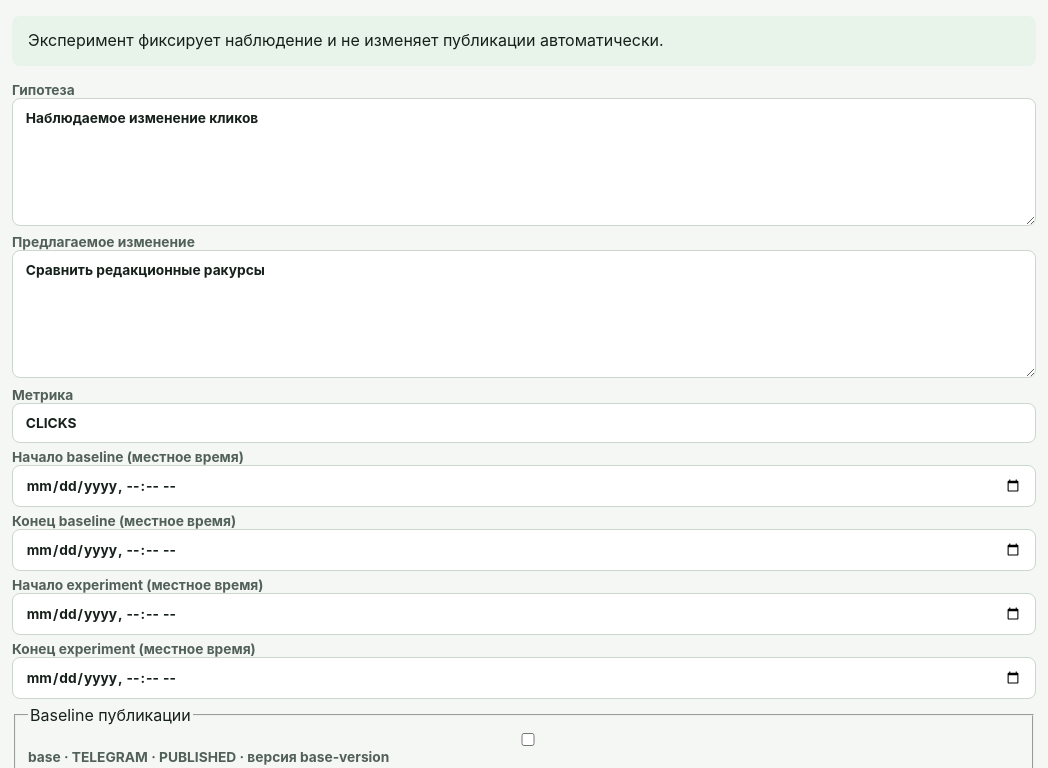
Scenario: human selects dates and disjoint groups
Step 1. Type "2026-10-01T00:00" into the field labelled "Начало baseline (местное время)" → (524, 486), box [12,465,1036,507]
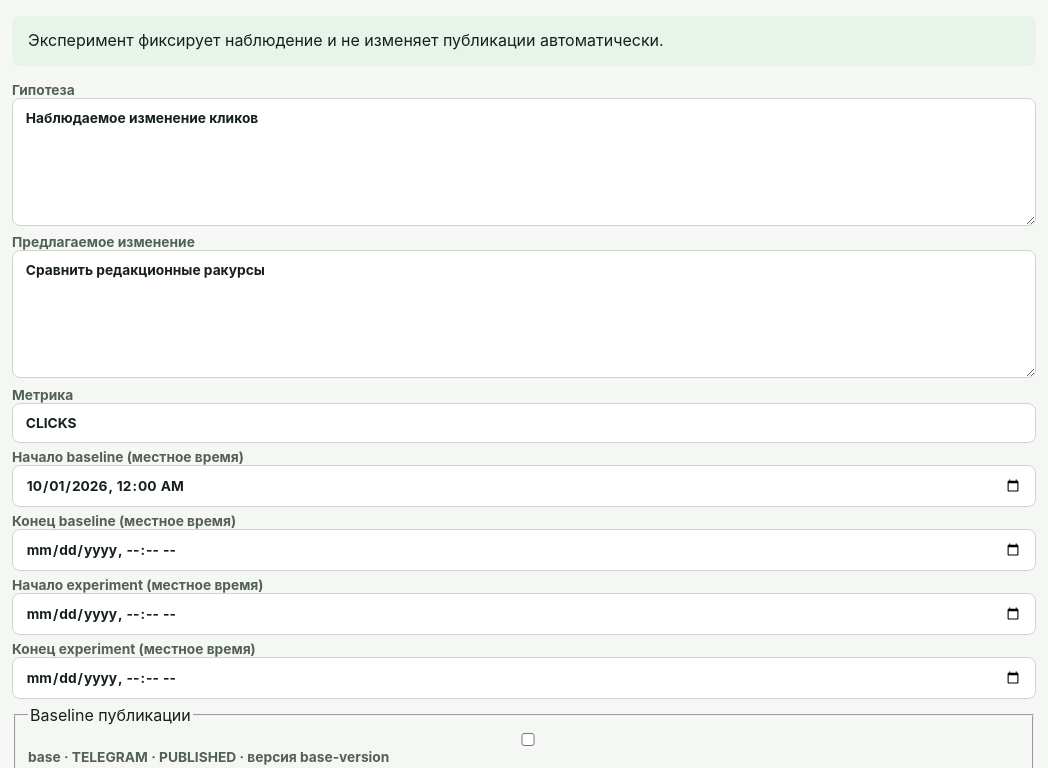
Step 2. Type "2026-10-03T00:00" into the field labelled "Конец baseline (местное время)" → (524, 550), box [12,529,1036,571]
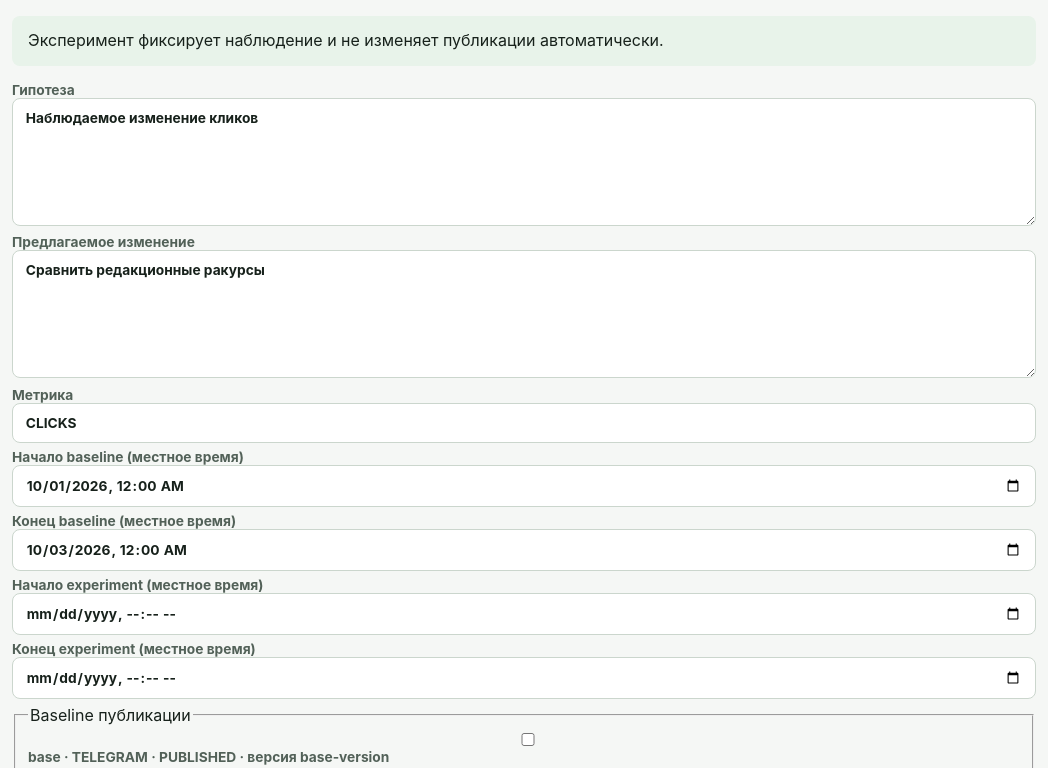
Step 3. Type "2026-10-03T00:00" into the field labelled "Начало experiment (местное время)" → (524, 614), box [12,593,1036,635]
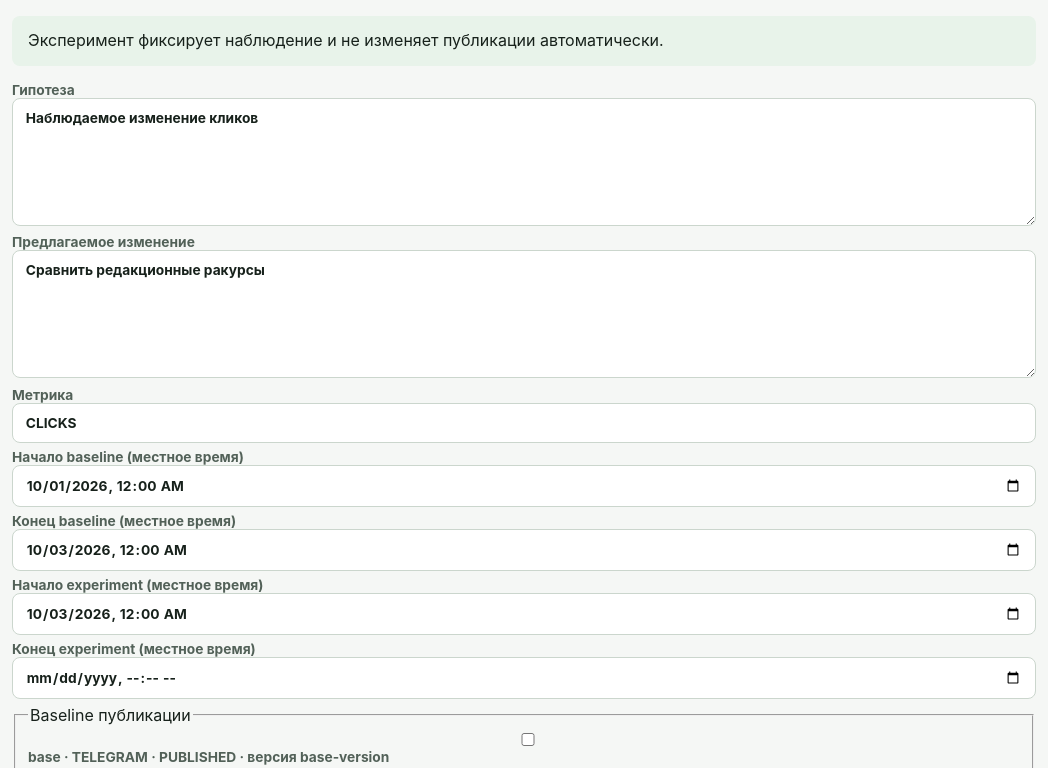
Step 4. Type "2026-10-08T00:00" into the field labelled "Конец experiment (местное время)" → (524, 678), box [12,657,1036,699]
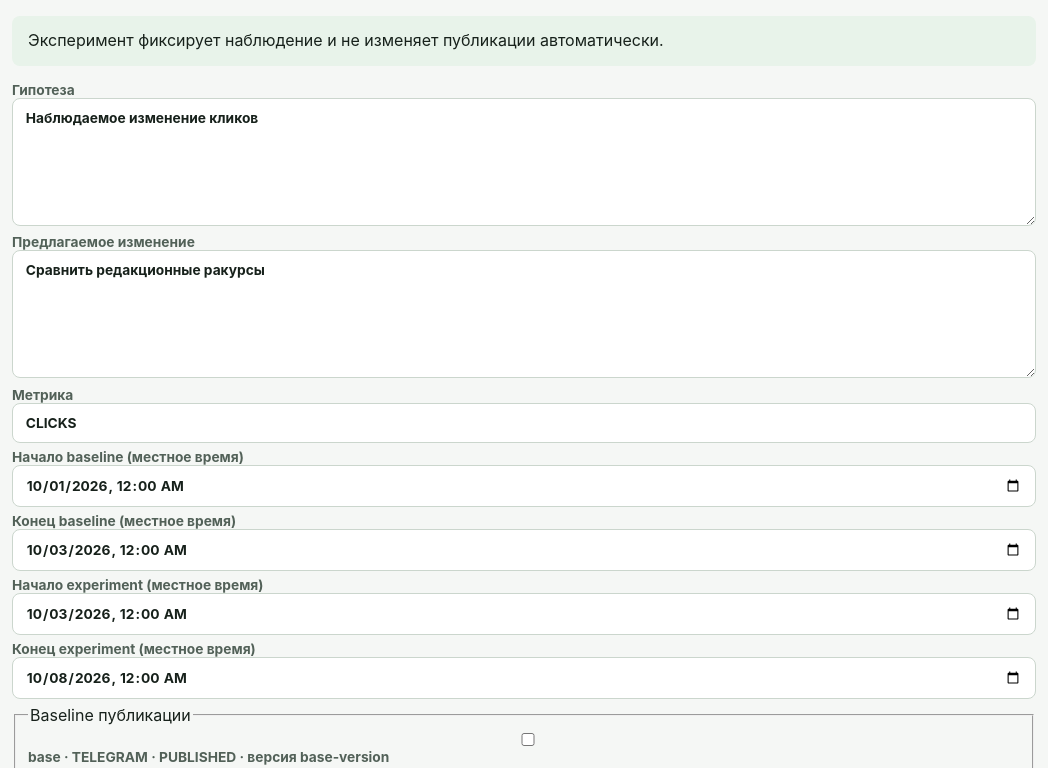
Step 5. Click the checkbox labelled "base · TELEGRAM · PUBLISHED · версия base-version" → click(528, 740), box [32,733,1024,746]
(page scrolled)
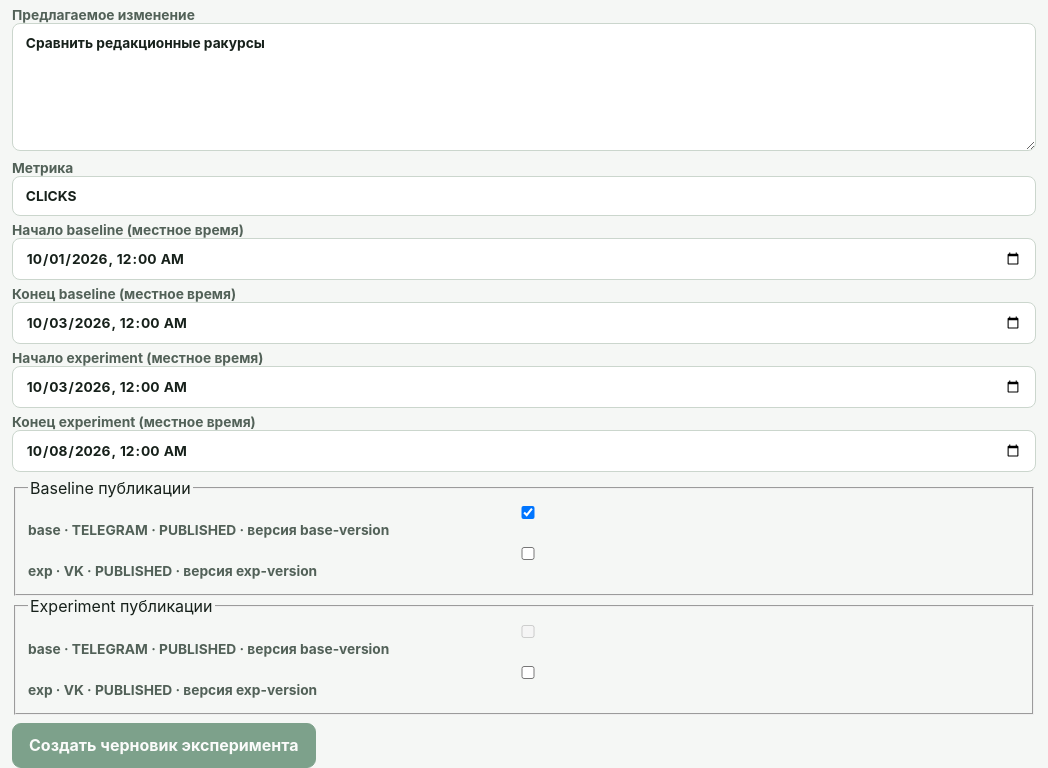
Step 6. Click the checkbox labelled "exp · VK · PUBLISHED · версия exp-version" below "Experiment публикации" → click(528, 672), box [32,666,1024,679]
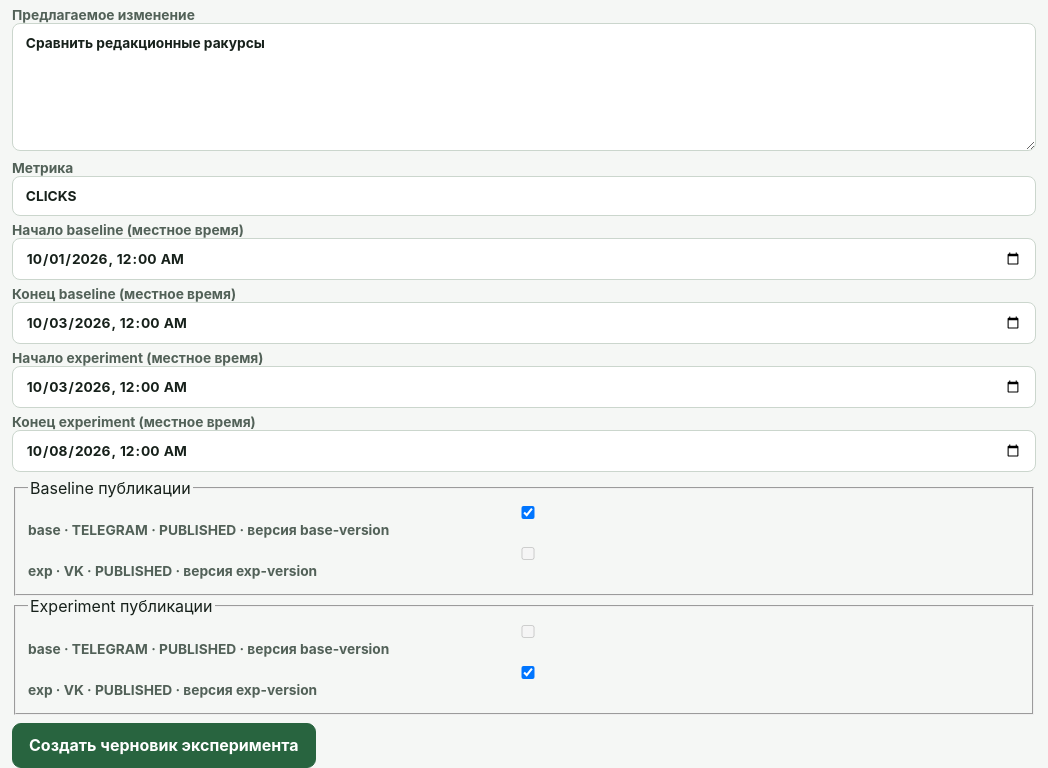
Result: the checkbox labelled "base · TELEGRAM · PUBLISHED · версия base-version" below "Experiment публикации" is disabled at [32,625,1024,638]
Result: the button "Создать черновик эксперимента" is enabled at [12,723,316,767]
